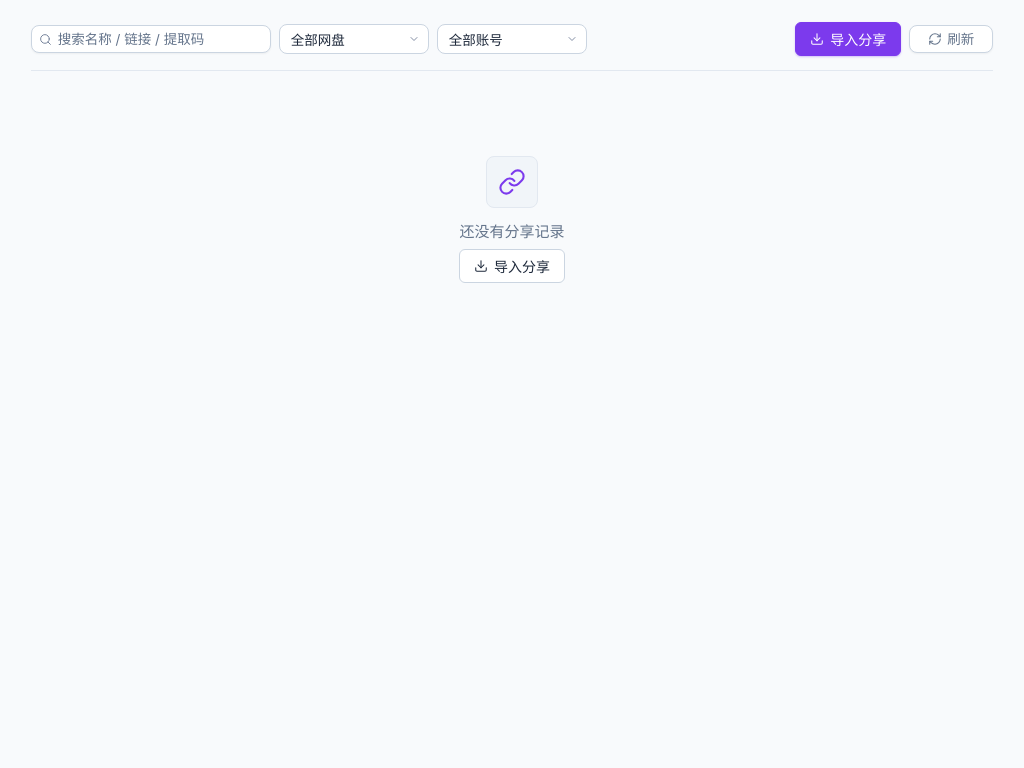
Scenario: 关键交互组件 › 没有兼容账号时分享页仍展示导入入口和说明
Click the 1st button "导入分享". click: (848, 39)
box: [795, 22, 901, 56]
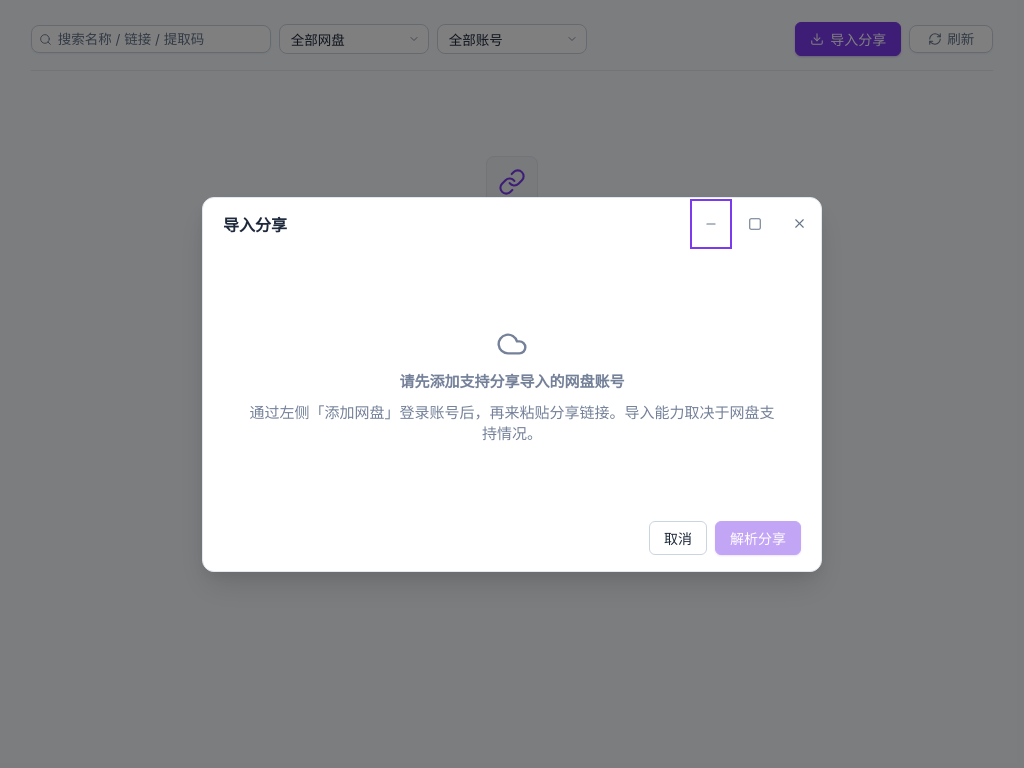
Check: the text "请先添加支持分享导入的网盘账号" is shown, box [400, 370, 624, 390]
